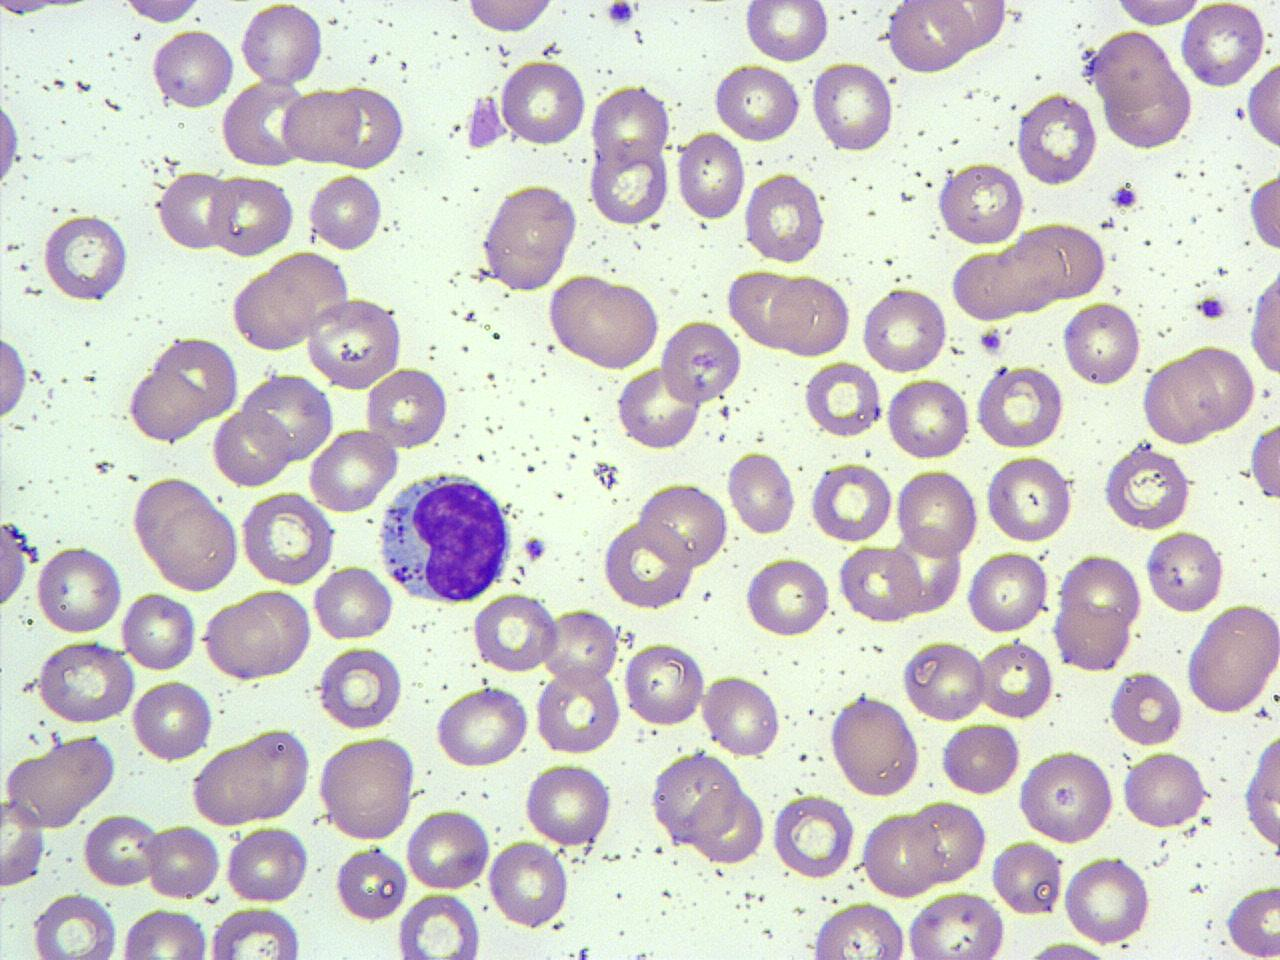Platelets: (462, 92, 510, 149), (605, 1, 636, 26), (1195, 295, 1227, 321), (978, 328, 1005, 354), (1109, 186, 1139, 209), (521, 536, 546, 562), (993, 363, 1007, 376)
RBC: (315, 732, 418, 842), (1050, 550, 1142, 672), (479, 182, 579, 293), (1184, 602, 1280, 716), (1015, 746, 1115, 846), (303, 294, 406, 391), (828, 693, 922, 799), (239, 488, 338, 586), (650, 748, 743, 849), (600, 517, 696, 611), (566, 278, 662, 372), (433, 682, 532, 770), (33, 544, 124, 638), (151, 498, 241, 594), (984, 452, 1074, 546), (532, 663, 622, 757), (33, 641, 136, 724), (1099, 63, 1195, 150), (1061, 854, 1153, 946), (1101, 442, 1193, 532), (227, 725, 311, 824), (40, 211, 129, 305), (242, 372, 334, 462), (498, 57, 588, 149), (188, 738, 282, 826), (636, 480, 730, 568), (306, 427, 400, 514), (1015, 90, 1101, 186), (810, 58, 894, 156), (743, 170, 827, 266), (893, 468, 981, 560), (975, 364, 1067, 451), (487, 836, 570, 932), (768, 794, 858, 882), (860, 284, 949, 373), (404, 806, 494, 893), (720, 263, 810, 350), (150, 334, 242, 419), (1179, 0, 1265, 92), (744, 553, 833, 640), (712, 61, 802, 146), (937, 160, 1025, 248), (964, 548, 1050, 636), (885, 375, 972, 464), (208, 172, 297, 258), (524, 762, 614, 848), (471, 590, 559, 676), (316, 644, 405, 730), (658, 318, 744, 406), (1013, 220, 1107, 301), (238, 2, 324, 90), (129, 676, 214, 764), (622, 640, 706, 730), (545, 270, 624, 365), (150, 26, 236, 113), (809, 458, 894, 546), (1119, 748, 1209, 830), (364, 364, 450, 450), (228, 270, 316, 353), (588, 138, 670, 227), (1145, 526, 1227, 616), (1061, 298, 1143, 388), (1177, 340, 1257, 432), (902, 637, 986, 724), (616, 365, 699, 451), (769, 272, 852, 359), (222, 822, 309, 904), (862, 808, 939, 899), (836, 543, 921, 625), (905, 890, 1007, 960), (908, 798, 988, 886), (700, 674, 782, 758), (1092, 27, 1172, 113), (328, 82, 406, 169), (977, 634, 1055, 722), (675, 129, 748, 224), (210, 406, 292, 489), (590, 84, 672, 166), (119, 588, 198, 675), (203, 599, 284, 682), (312, 562, 394, 644), (279, 85, 364, 163), (238, 586, 312, 675), (724, 449, 798, 537), (1141, 356, 1213, 447), (801, 358, 883, 439), (939, 718, 1022, 798), (306, 169, 384, 254), (80, 810, 160, 890), (158, 168, 234, 254), (884, 1, 976, 72), (542, 606, 620, 688), (144, 822, 222, 902), (1108, 668, 1184, 748), (990, 836, 1065, 918), (29, 891, 119, 960), (334, 842, 408, 924), (808, 899, 908, 960), (126, 368, 206, 444), (949, 248, 1026, 324), (205, 904, 306, 960), (396, 892, 482, 959), (696, 788, 768, 866), (741, 0, 828, 63), (117, 905, 210, 959), (0, 796, 48, 890), (1242, 734, 1280, 852), (924, 0, 1009, 52), (1225, 882, 1279, 956), (1248, 262, 1280, 384), (462, 0, 559, 36), (1245, 55, 1279, 152), (0, 514, 27, 618), (0, 325, 28, 424), (1110, 0, 1204, 29), (1248, 170, 1280, 254), (1249, 418, 1279, 506), (118, 0, 208, 26), (0, 95, 20, 193)
WBC: (372, 467, 517, 608), (478, 179, 580, 292), (650, 746, 744, 846), (465, 93, 510, 151)
